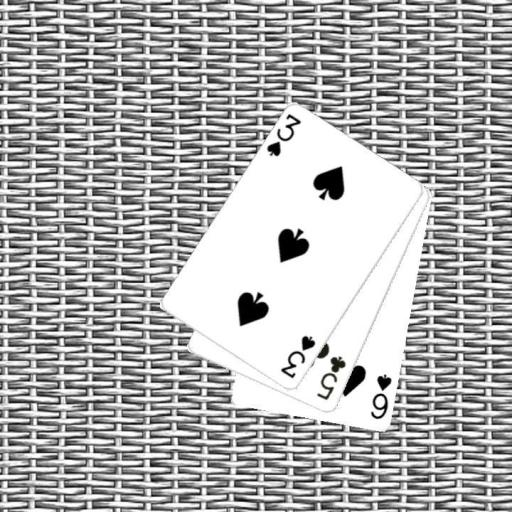3S: (277, 332, 317, 381), (263, 111, 303, 159)
5C: (314, 354, 348, 403)
6S: (368, 371, 394, 421)
